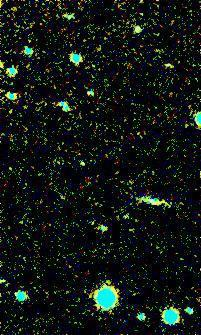star: (167, 114, 197, 144)
